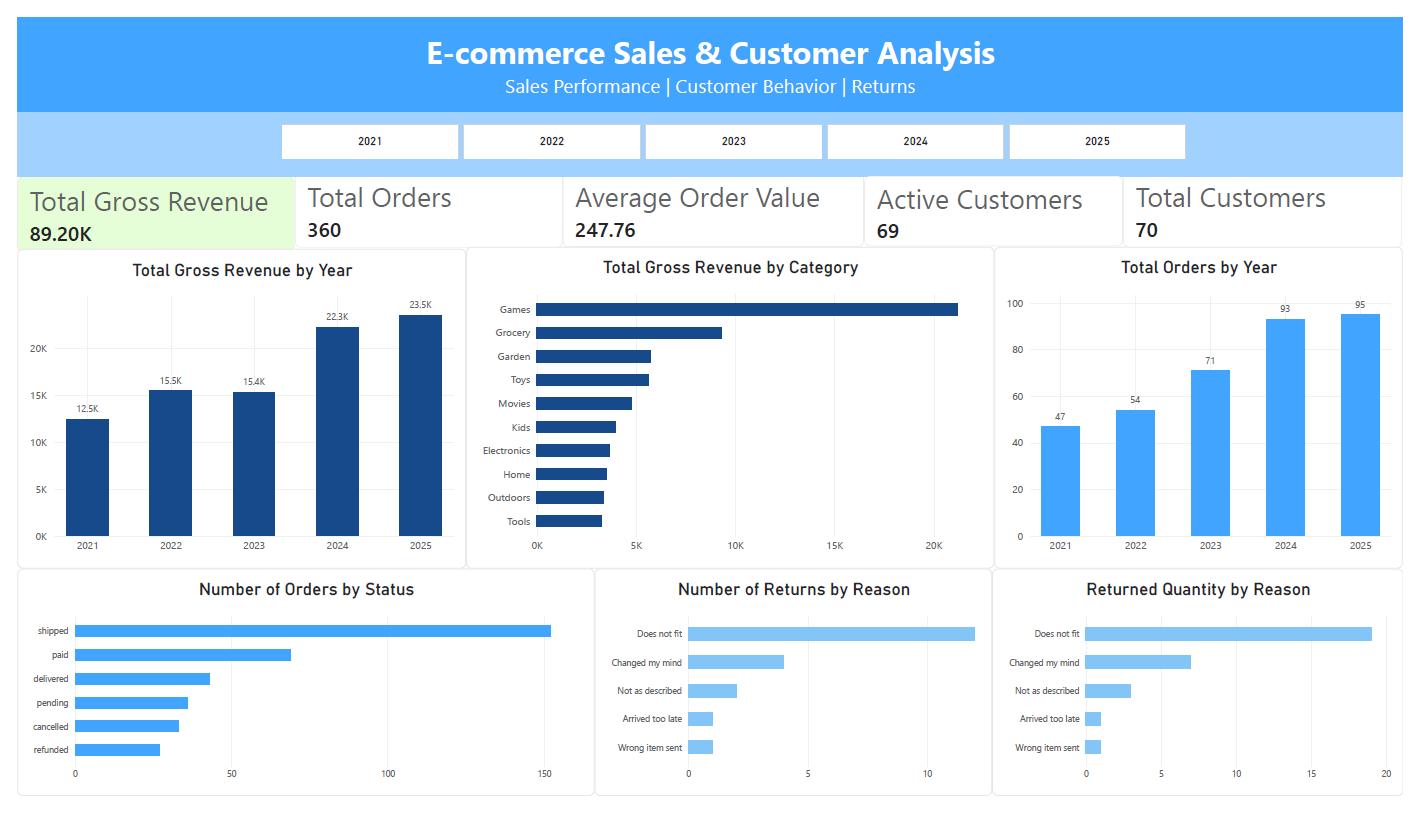

What the dashboard file says about the page in this screenshot:
{"tool":"powerbi","page":{"name":"Page 1","canvas":[1920,1080],"ordinal":0},"visuals":[{"type":"cardVisual","fields":{"Data":["ecommerce_sample orders.Total Orders"]},"box":[384.6,215.4,371.7,104.3],"z":0},{"type":"cardVisual","fields":{"Data":["ecommerce_sample users.Total Customers"]},"box":[1533.3,215.4,387,104.3],"z":1000},{"type":"cardVisual","fields":{"Data":["ecommerce_sample order_items.Total Gross Revenue"]},"box":[0,220.5,384.8,104.3],"z":2000},{"type":"cardVisual","fields":{"Data":["ecommerce_sample orders.Average Order Value"]},"box":[756.4,215.4,417.3,103.8],"z":3000},{"type":"clusteredColumnChart","title":"Total Gross Revenue by Year","fields":{"Category":["ecommerce_sample orders.created_at.Variation.Date Hierarchy.Year"],"Y":["ecommerce_sample order_items.Total Gross Revenue"]},"box":[0,320.5,621.7,443.5],"z":4000},{"type":"clusteredBarChart","title":"Total Gross Revenue by Category","fields":{"Category":["ecommerce_sample categories.name"],"Y":["ecommerce_sample order_items.Total Gross Revenue"]},"box":[621.6,317.6,732.4,445.9],"z":5000},{"type":"clusteredBarChart","title":"Number of Orders by Status","fields":{"Category":["ecommerce_sample order_statuses.status_name"],"Y":["ecommerce_sample orders.Total Orders"]},"box":[0,764.1,800,315.4],"z":6000},{"type":"clusteredColumnChart","fields":{"Category":["ecommerce_sample orders.created_at.Variation.Date Hierarchy.Year"],"Y":["ecommerce_sample orders.Total Orders"]},"box":[1354.1,317.6,566.2,445.9],"z":7000},{"type":"textbox","box":[0,130.8,1920.5,89.7],"z":7500},{"type":"advancedSlicerVisual","fields":{"Values":["ecommerce_sample orders.created_at.Variation.Date Hierarchy.Year"]},"box":[366.7,148.7,1252.2,47.8],"z":8000},{"type":"clusteredBarChart","title":"Number of Returns by Reason","fields":{"Category":["ecommerce_sample return_reasons.reason_text"],"Y":["CountNonNull(ecommerce_sample order_returns.id)"]},"box":[800,764.1,551.3,315.4],"z":9000},{"type":"clusteredBarChart","title":"Returned Quantity by Reason","fields":{"Category":["ecommerce_sample return_reasons.reason_text"],"Y":["Sum(ecommerce_sample order_returns.quantity)"]},"box":[1351.3,764.1,569.2,315.4],"z":10000},{"type":"cardVisual","fields":{"Data":["ecommerce_sample orders.Active Customers"]},"box":[1174.3,220.3,358.1,97.3],"z":11000},{"type":"textbox","box":[0,0,1920.5,131],"z":12000}]}

Visuals, with their boxes in screenshot pixels (x1, y1, x2, y2), scaled from the page's 1920x1080 canvas onto the 1418x813 screenshot:
cardVisual - ecommerce_sample orders.Total Orders: <box>284,162,559,241</box>
cardVisual - ecommerce_sample users.Total Customers: <box>1132,162,1417,241</box>
cardVisual - ecommerce_sample order_items.Total Gross Revenue: <box>0,166,284,245</box>
cardVisual - ecommerce_sample orders.Average Order Value: <box>559,162,867,240</box>
"Total Gross Revenue by Year" clusteredColumnChart: <box>0,241,459,575</box>
"Total Gross Revenue by Category" clusteredBarChart: <box>459,239,1000,575</box>
"Number of Orders by Status" clusteredBarChart: <box>0,575,591,812</box>
clusteredColumnChart - ecommerce_sample orders.created_at.Variation.Date Hierarchy.Year x ecommerce_sample orders.Total Orders: <box>1000,239,1417,575</box>
textbox: <box>0,98,1417,166</box>
advancedSlicerVisual - ecommerce_sample orders.created_at.Variation.Date Hierarchy.Year: <box>271,112,1196,148</box>
"Number of Returns by Reason" clusteredBarChart: <box>591,575,998,812</box>
"Returned Quantity by Reason" clusteredBarChart: <box>998,575,1417,812</box>
cardVisual - ecommerce_sample orders.Active Customers: <box>867,166,1132,239</box>
textbox: <box>0,0,1417,99</box>
